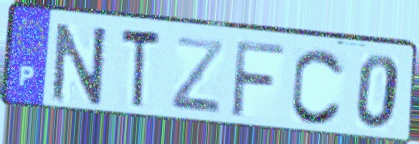0: (353, 52, 402, 133)
C: (288, 45, 348, 128)
F: (228, 37, 288, 122)
N: (49, 20, 110, 107)
T: (119, 25, 163, 113)
Z: (168, 34, 226, 117)
